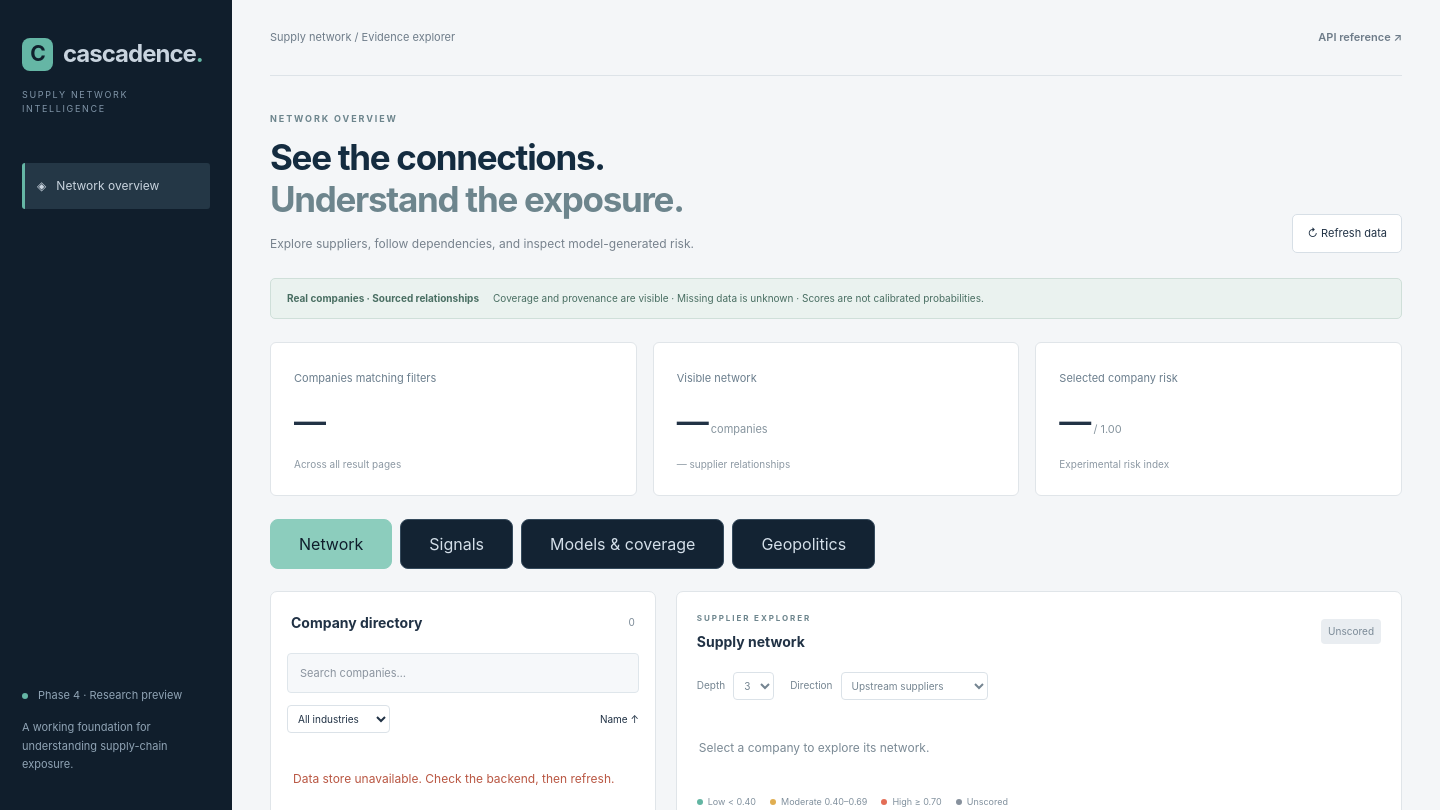
it: Dashboard › shows backend errors and permits retry
Expected: the message shows "Data store unavailable", [293,771,418,786]
Click the button "↻ Refresh data".
click(1347, 234)  # box [1292,214,1402,253]
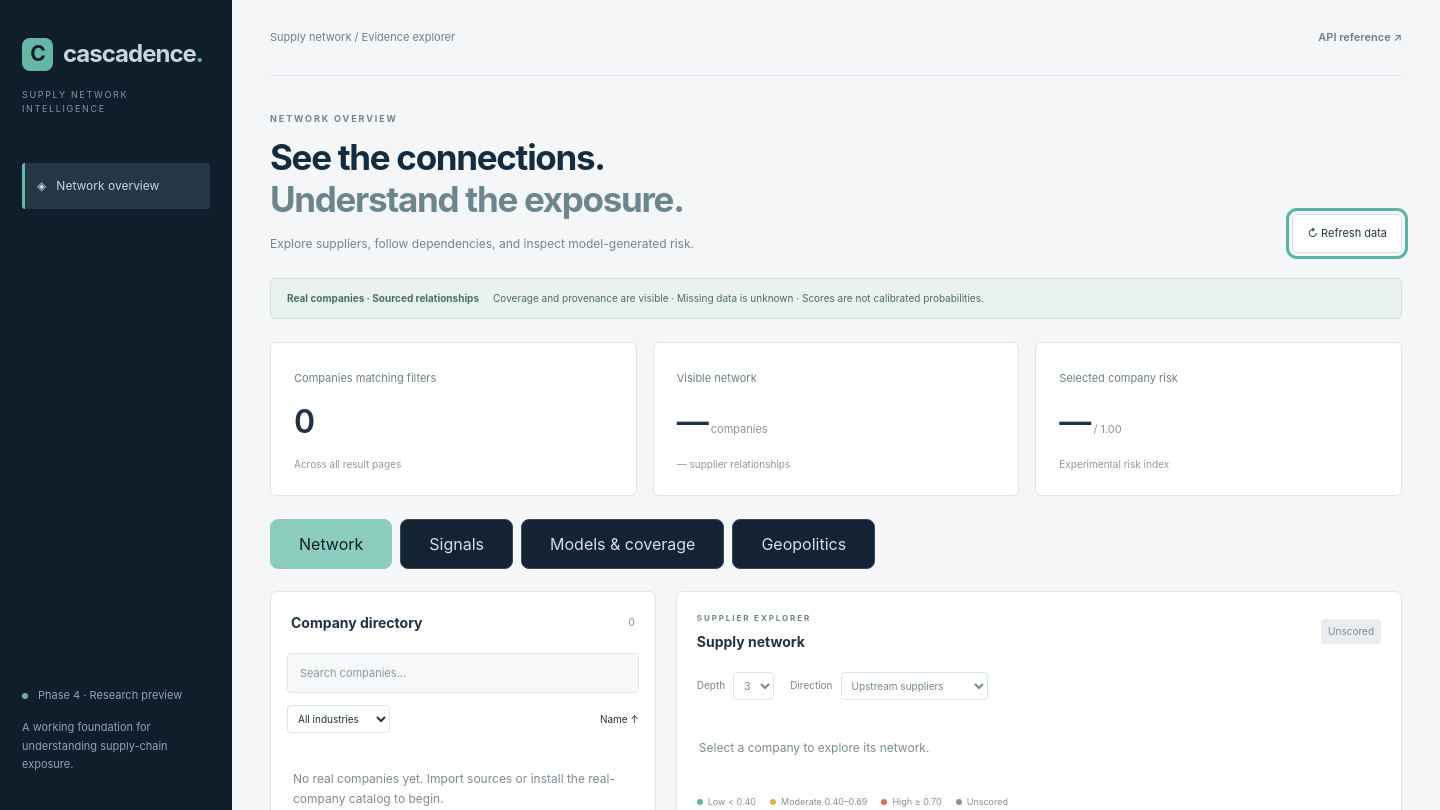
Expected: the message "Data store unavailable. Check the backend, then refresh." is gone
